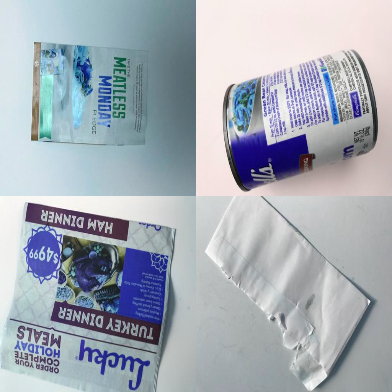metal: (221, 48, 379, 193)
paper: (1, 201, 177, 392), (202, 195, 371, 390), (32, 40, 146, 145)
